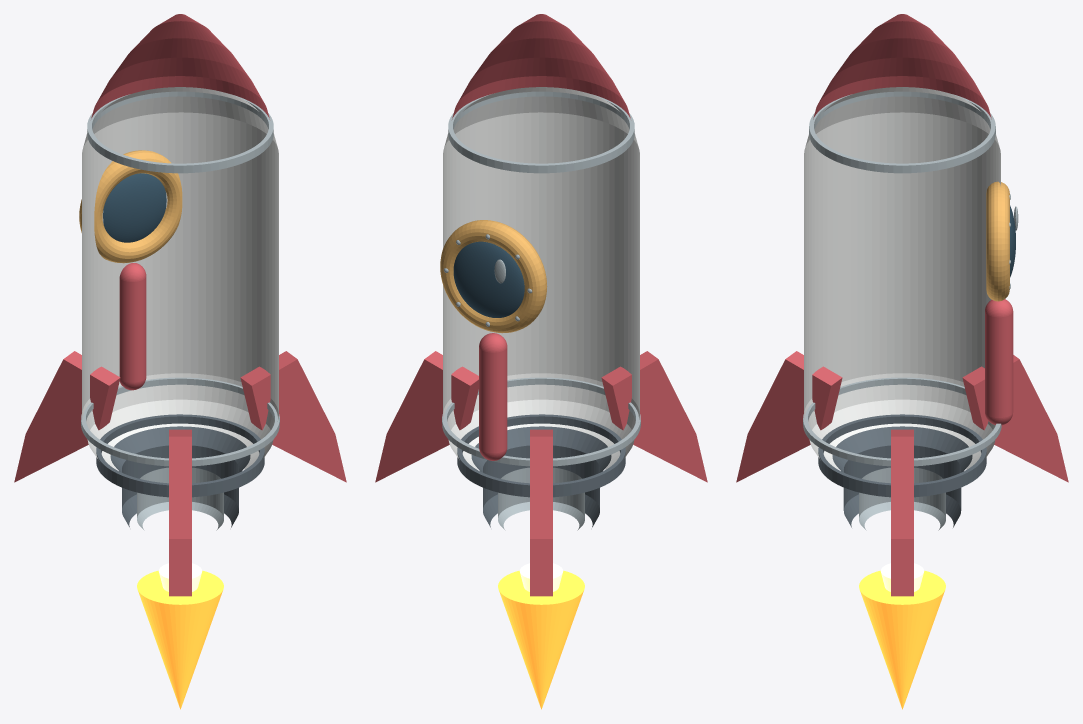
File: mmc_rocket_3d.glb
3 views of the same model, side by side, from view 1: azimuth 30°, elevation 25°; view 2: azimuth 150°, elevation 25°; view 3: azimuth 270°, elevation 25° (orthographic).
Visible parts, largest first — view 1: 01_Main_White_Fuselage, 02_Red_Nose_Cone, 08_Red_Stabilizer_Fin_2, 08_Red_Stabilizer_Fin_1, 14_Exhaust_Flame_Outer, 06_Graphite_Engine_Nozzle, 09_Orange_Porthole_Rim, 04_Engine_Rim, 08_Red_Stabilizer_Fin_3, 03_Nose_Collar, 10_Dark_Glass_Window, 12_Front_Red_Keel (+2 smaller); view 2: 01_Main_White_Fuselage, 02_Red_Nose_Cone, 08_Red_Stabilizer_Fin_3, 08_Red_Stabilizer_Fin_1, 14_Exhaust_Flame_Outer, 09_Orange_Porthole_Rim, 06_Graphite_Engine_Nozzle, 10_Dark_Glass_Window, 08_Red_Stabilizer_Fin_2, 04_Engine_Rim, 12_Front_Red_Keel, 03_Nose_Collar (+2 smaller); view 3: 01_Main_White_Fuselage, 02_Red_Nose_Cone, 08_Red_Stabilizer_Fin_3, 14_Exhaust_Flame_Outer, 08_Red_Stabilizer_Fin_2, 06_Graphite_Engine_Nozzle, 04_Engine_Rim, 08_Red_Stabilizer_Fin_1, 12_Front_Red_Keel, 03_Nose_Collar, 05_Upper_Accent_Ring, 09_Orange_Porthole_Rim (+1 smaller).
Part boxes in pixels (x1,y1,x2,y2): 01_Main_White_Fuselage: (82, 87, 278, 469); 02_Red_Nose_Cone: (91, 14, 269, 119); 08_Red_Stabilizer_Fin_2: (14, 351, 120, 482); 08_Red_Stabilizer_Fin_1: (240, 351, 346, 482); 14_Exhaust_Flame_Outer: (137, 570, 223, 709); 06_Graphite_Engine_Nozzle: (110, 426, 250, 527); 09_Orange_Porthole_Rim: (79, 150, 182, 263); 04_Engine_Rim: (96, 414, 264, 497); 08_Red_Stabilizer_Fin_3: (169, 429, 191, 596); 03_Nose_Collar: (87, 91, 273, 173); 10_Dark_Glass_Window: (103, 173, 166, 242); 12_Front_Red_Keel: (119, 263, 146, 390); 01_Main_White_Fuselage: (443, 87, 639, 469); 02_Red_Nose_Cone: (452, 14, 630, 119); 08_Red_Stabilizer_Fin_3: (601, 351, 707, 482); 08_Red_Stabilizer_Fin_1: (375, 351, 478, 482); 14_Exhaust_Flame_Outer: (498, 570, 584, 709); 09_Orange_Porthole_Rim: (440, 220, 547, 333); 06_Graphite_Engine_Nozzle: (471, 426, 611, 527); 10_Dark_Glass_Window: (453, 241, 524, 317); 08_Red_Stabilizer_Fin_2: (530, 429, 552, 596); 04_Engine_Rim: (457, 414, 625, 497); 12_Front_Red_Keel: (479, 333, 507, 460); 03_Nose_Collar: (448, 91, 634, 173); 01_Main_White_Fuselage: (804, 87, 1000, 469); 02_Red_Nose_Cone: (813, 14, 991, 119); 08_Red_Stabilizer_Fin_3: (736, 351, 842, 482); 14_Exhaust_Flame_Outer: (859, 570, 945, 709); 08_Red_Stabilizer_Fin_2: (962, 355, 1068, 482); 06_Graphite_Engine_Nozzle: (832, 426, 972, 527); 04_Engine_Rim: (818, 414, 986, 497); 08_Red_Stabilizer_Fin_1: (891, 429, 913, 596); 12_Front_Red_Keel: (985, 299, 1013, 425); 03_Nose_Collar: (809, 91, 995, 173); 05_Upper_Accent_Ring: (803, 377, 1001, 466); 09_Orange_Porthole_Rim: (986, 181, 1009, 301).
Size of the model in its own units: 1.52 by 4.05 by 1.76.
